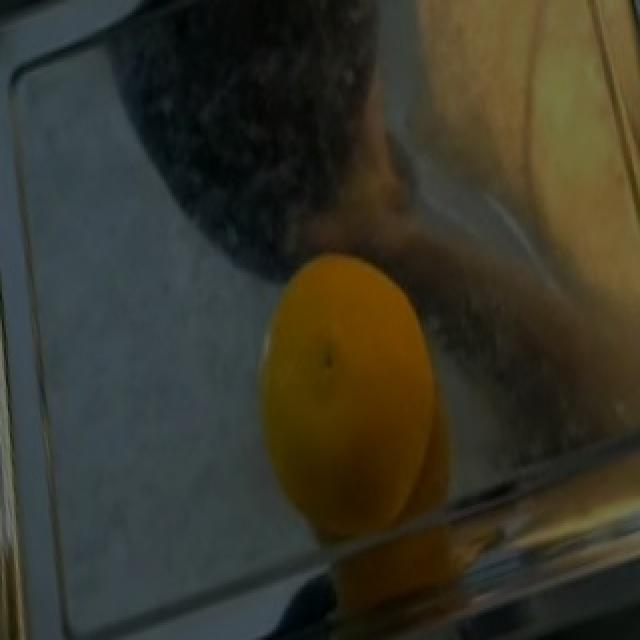Fruit: (244, 228, 466, 571), (590, 0, 640, 198)
